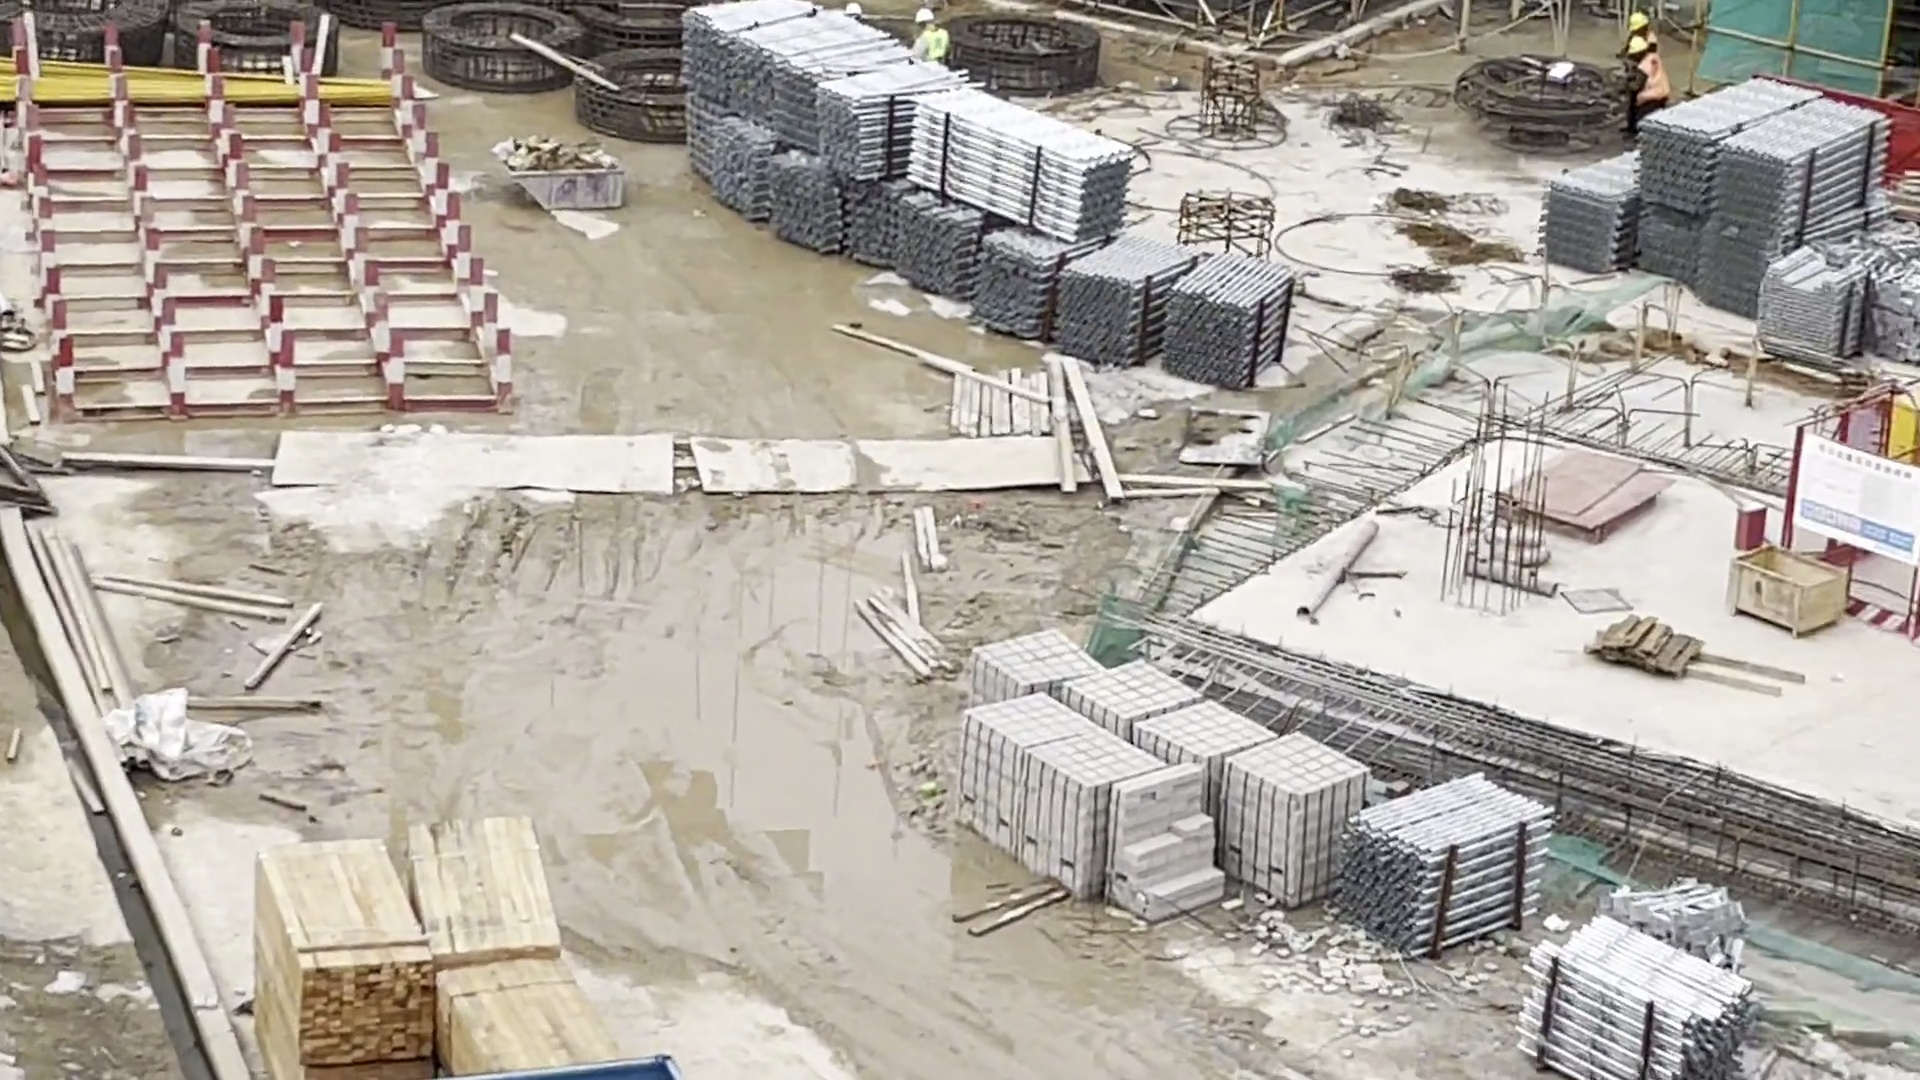brick: (915, 622, 1375, 924)
ebox: (1860, 368, 1920, 469)
fence: (1765, 373, 1920, 634)
helmet: (1625, 9, 1656, 34), (906, 6, 940, 26), (1625, 35, 1651, 57), (839, 1, 866, 20)
hopper: (487, 119, 649, 235), (1723, 537, 1864, 647)
person: (1611, 4, 1693, 95), (1620, 30, 1675, 126), (909, 5, 949, 59)
scaffold: (669, 1, 1330, 399), (1535, 80, 1920, 361), (1499, 914, 1760, 1080), (1340, 774, 1546, 970)
slogan: (1771, 423, 1920, 571)
vest: (1619, 50, 1685, 105), (1623, 30, 1664, 70)
wood: (248, 766, 679, 1077)
